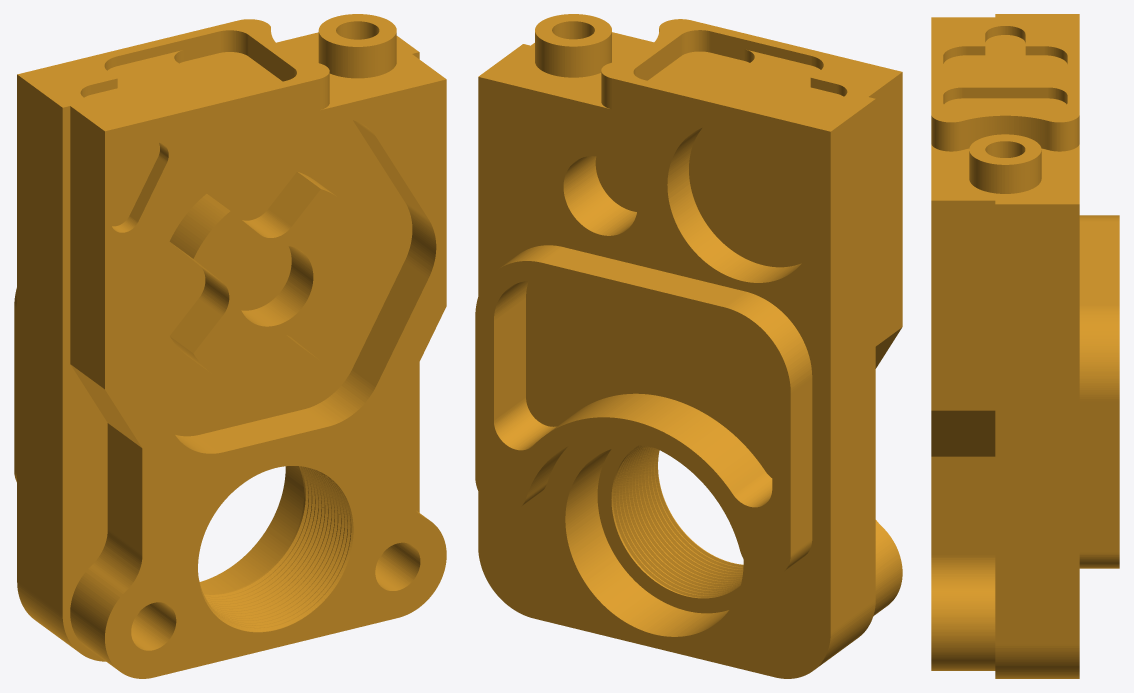
3 renders of one model, left to right at view 1: azimuth 30°, elevation 25°; view 2: azimuth 150°, elevation 25°; view 3: azimuth 270°, elevation 25°, orthographic. The views are drawn at different scales.
Bounding box in the file's own units: 95 × 144 × 47.
